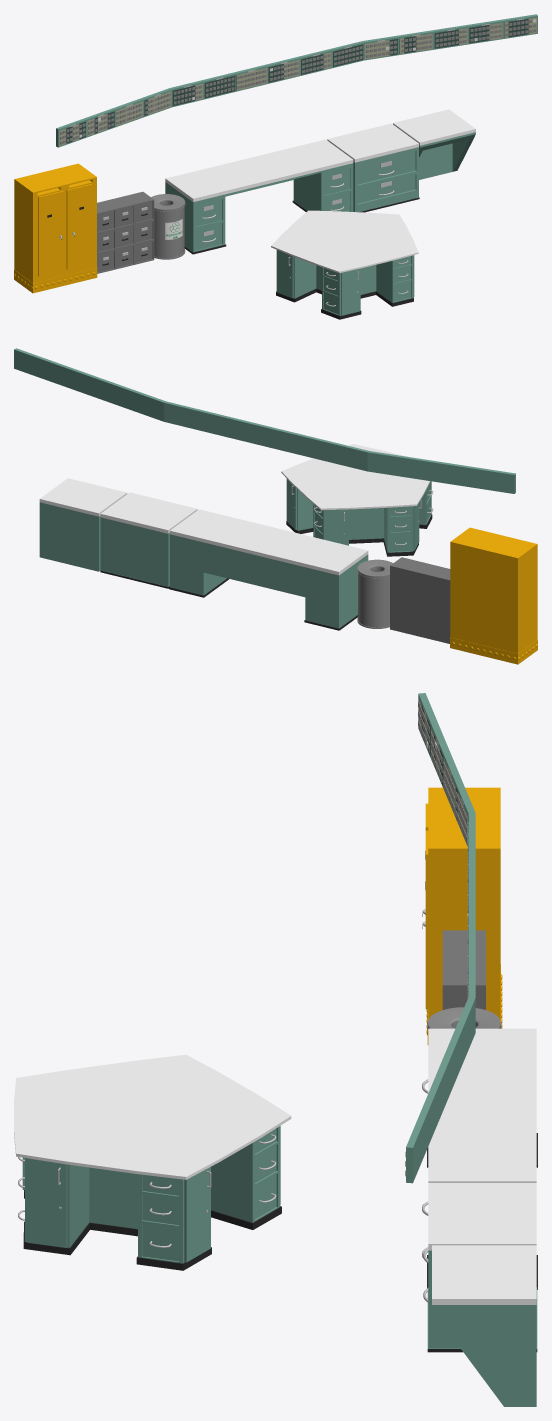
Rendered from Nuclear control room stuff.fbx.
3 renders of one model, top to bottom at view 1: azimuth 30°, elevation 25°; view 2: azimuth 150°, elevation 25°; view 3: azimuth 270°, elevation 25°, orthographic. The views are drawn at different scales.
Parts seen in each view (by area): view 1: Pentagon Table, Table, Upper Panel, Orange Thing, Table Extension, Filing Cabinet, Array Table, Trash Can; view 2: Table, Upper Panel, Pentagon Table, Orange Thing, Table Extension, Array Table, Filing Cabinet, Trash Can; view 3: Pentagon Table, Table, Array Table, Orange Thing, Table Extension, Upper Panel, Filing Cabinet, Trash Can.
Part boxes in pixels (x1,y1,x2,y2): Pentagon Table: (271,210,418,319); Table: (165,139,353,254); Upper Panel: (56,14,537,147); Orange Thing: (14,163,97,293); Table Extension: (327,123,419,212); Filing Cabinet: (97,191,154,273); Array Table: (393,109,475,179); Trash Can: (151,194,185,259); Table: (169,509,368,630); Upper Panel: (14,348,515,493); Pentagon Table: (281,444,433,556); Orange Thing: (450,527,537,664); Table Extension: (100,492,197,588); Array Table: (39,478,127,571); Filing Cabinet: (390,557,450,643); Trash Can: (357,559,392,628); Pentagon Table: (14,1054,291,1270); Table: (422,1028,537,1289); Array Table: (432,1245,536,1406); Orange Thing: (422,787,502,1044); Table Extension: (423,1183,537,1352); Upper Panel: (405,693,475,1183); Filing Cabinet: (442,930,485,1009); Trash Can: (427,1007,501,1029).
Size of the model in its own units: 3125 by 955 by 1450.
